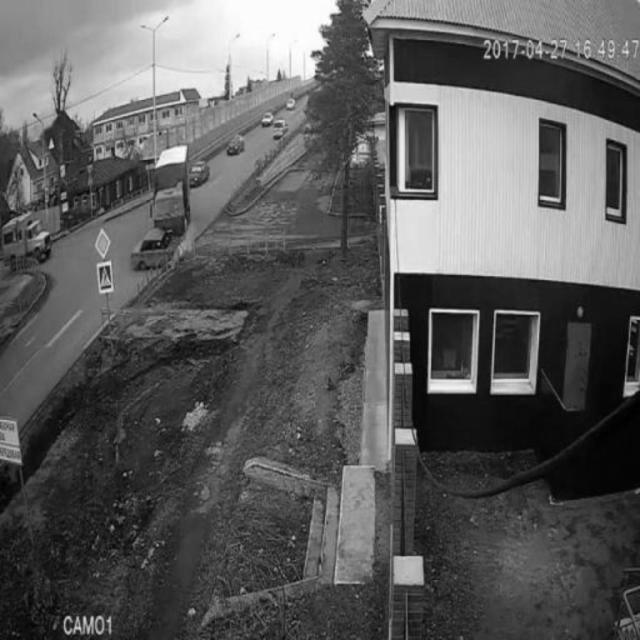accident: (128, 146, 192, 272)
vehicle: (0, 214, 55, 269), (187, 159, 211, 187), (224, 132, 246, 158), (270, 116, 290, 142), (258, 113, 275, 129)
